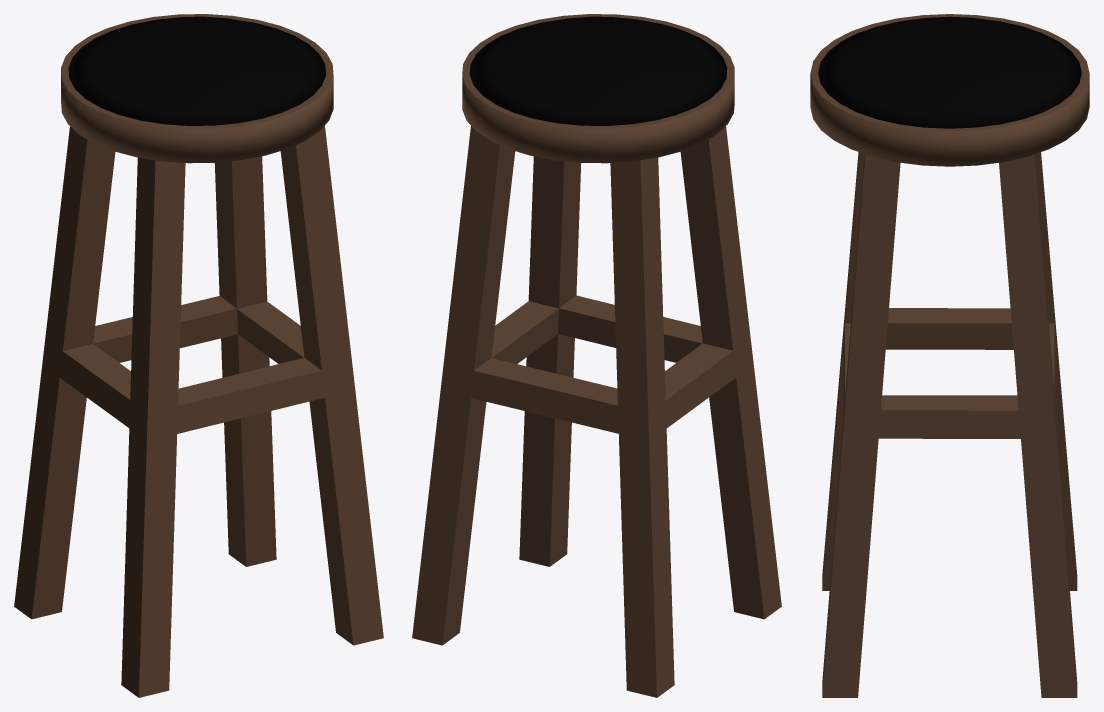
The model's file is stool.fbx.
3 views of the same model, side by side, from view 1: azimuth 30°, elevation 25°; view 2: azimuth 150°, elevation 25°; view 3: azimuth 270°, elevation 25° (orthographic). The views are drawn at different scales.
Parts seen in each view (by area): view 1: Cube; view 2: Cube; view 3: Cube.
Boxes of the visible parts, x1,y1,x2,y2 form: Cube: (14, 14, 383, 697); Cube: (412, 14, 781, 697); Cube: (810, 14, 1089, 697).
Size of the model in its own units: 182 by 408 by 175.
